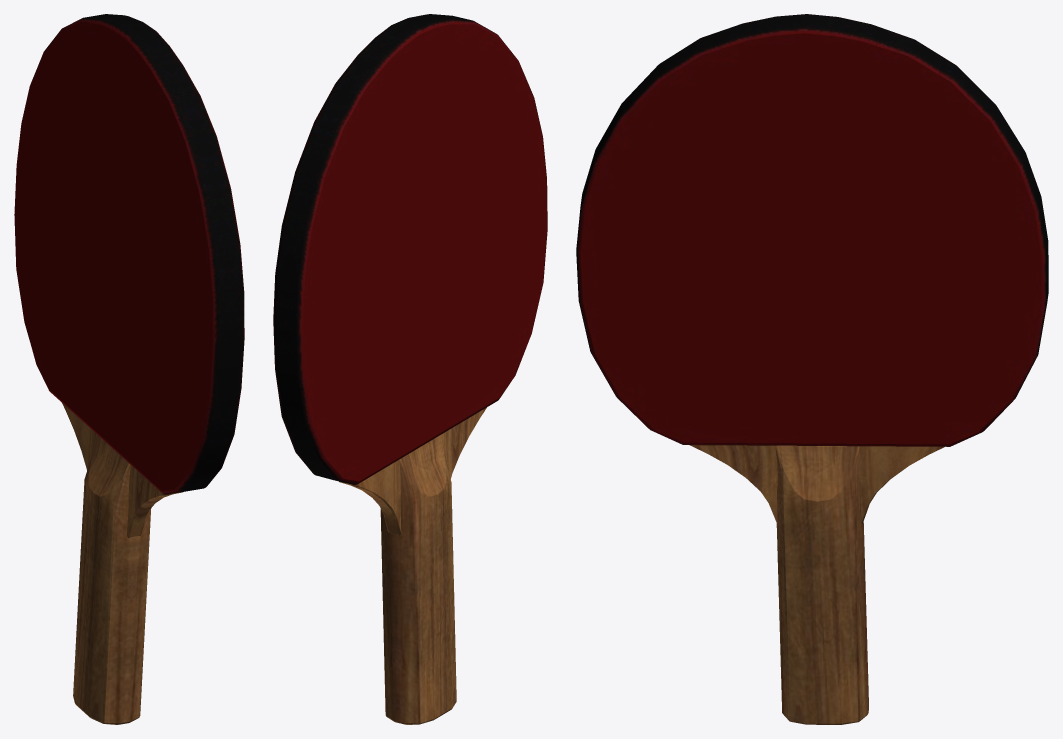
File: raqueta.glb
3 views of the same model, side by side, from view 1: azimuth 30°, elevation 25°; view 2: azimuth 150°, elevation 25°; view 3: azimuth 270°, elevation 25° (orthographic). The views are drawn at different scales.
Parts seen in each view (by area): view 1: ping pong_ping pong_0.001; view 2: ping pong_ping pong_0.001; view 3: ping pong_ping pong_0.001.
Part boxes in pixels (box(x1,y1,x2,y2)): ping pong_ping pong_0.001: box(14, 14, 244, 724); ping pong_ping pong_0.001: box(273, 14, 547, 724); ping pong_ping pong_0.001: box(576, 14, 1048, 724).
Size of the model in its own units: 0.0389 by 0.3524 by 0.2116.
1 material, 1 textured.
